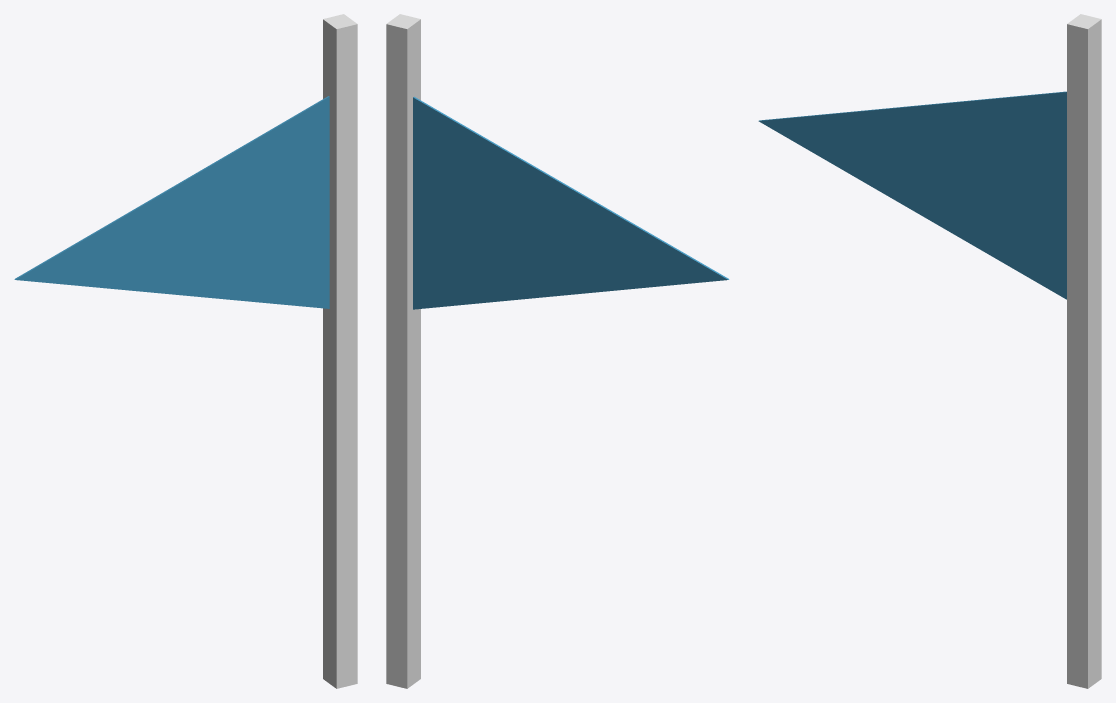
File: Flag.fbx
The picture shows the model from 3 angles, left to right: view 1: azimuth 30°, elevation 25°; view 2: azimuth 150°, elevation 25°; view 3: azimuth 330°, elevation 25°; orthographic projection.
Visible parts, largest first — view 1: pCylinder1; view 2: pCylinder1; view 3: pCylinder1.
Part boxes in pixels (x1,y1,x2,y2): pCylinder1: [14, 14, 357, 688]; pCylinder1: [386, 14, 729, 688]; pCylinder1: [758, 14, 1101, 688].
Bounding box in the file's own units: 208 × 391 × 14.76.
